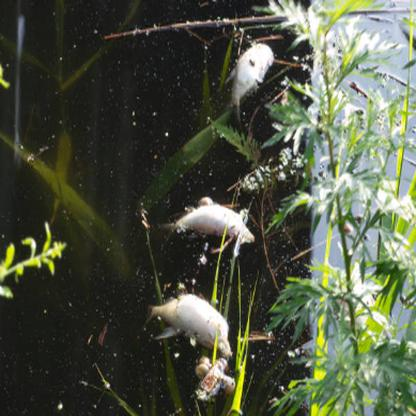deceased fish: (142, 287, 234, 357), (161, 192, 258, 251), (219, 39, 274, 107)
